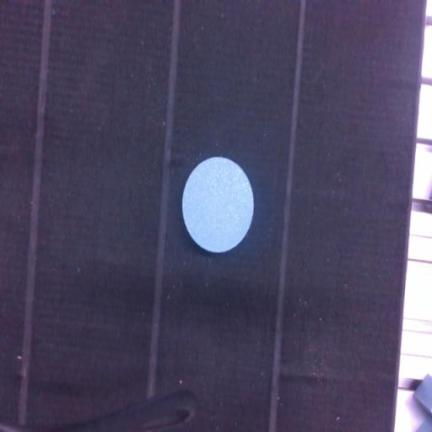cylinder: (182, 157, 253, 252)
